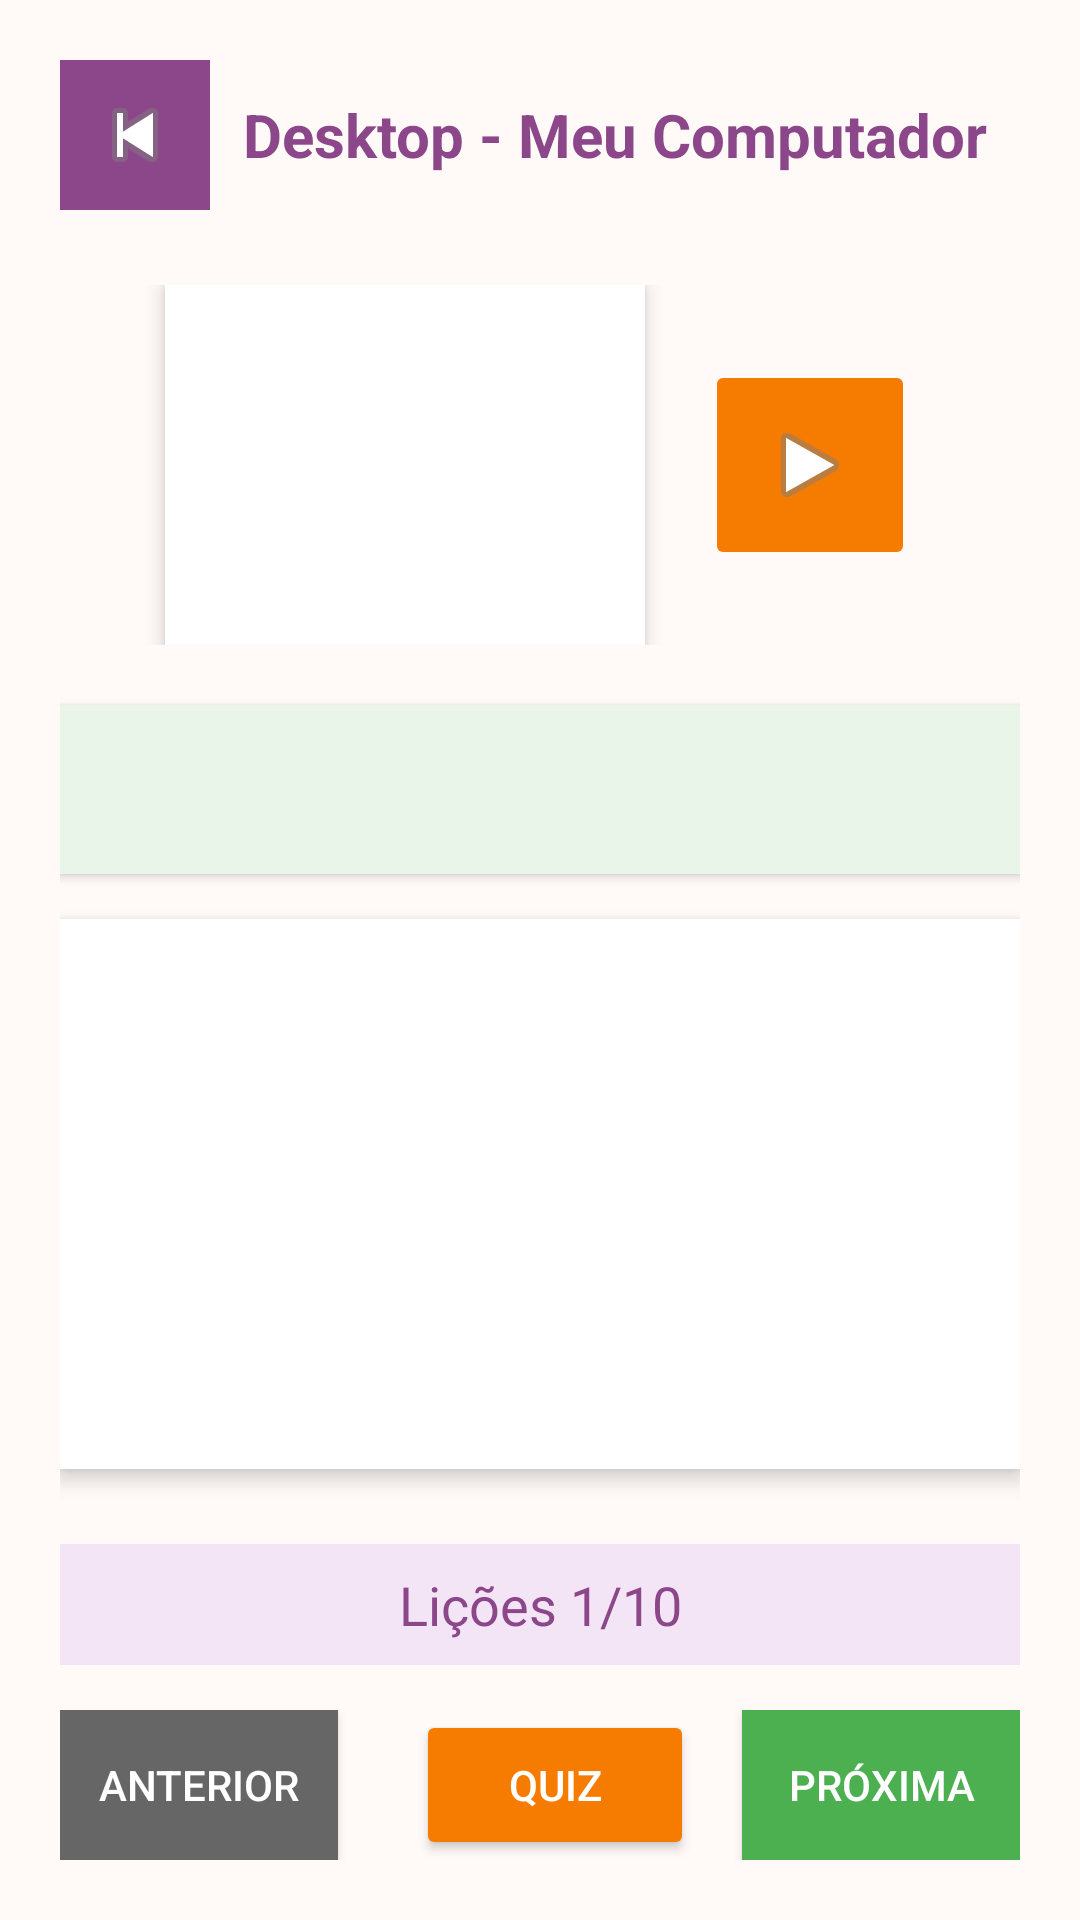

Named icons in this screenshot (1080 × 1920) and their bounding boxes, detection(x1, y1, x2, y2):
Ouvir lição atual: detection(717, 378, 903, 552)
Voltar para o menu: detection(60, 60, 210, 210)
